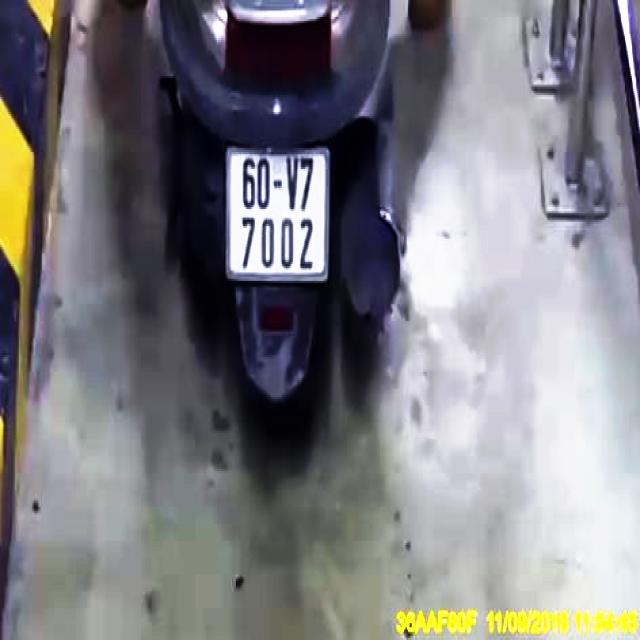license_plate: (229, 146, 328, 276)
